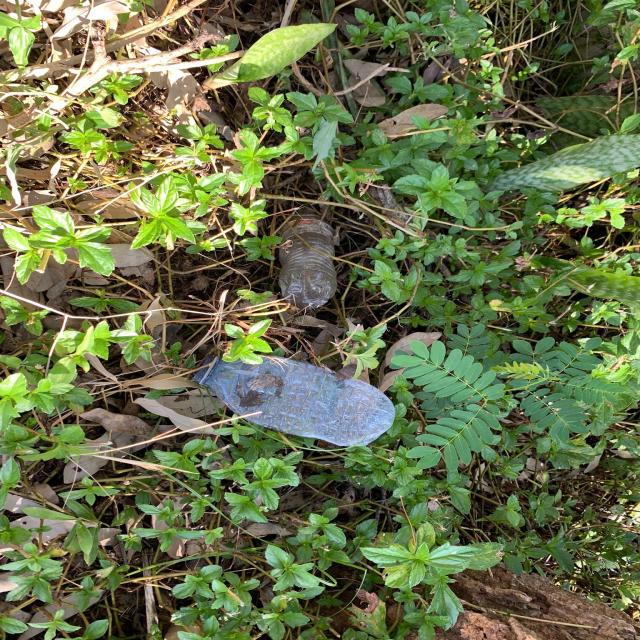litter: (192, 355, 398, 447), (278, 217, 337, 311)
